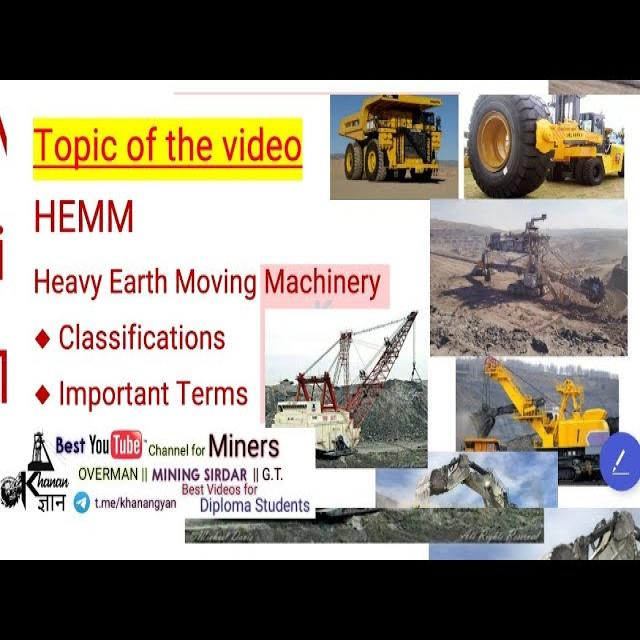dump_truck: (338, 91, 444, 187)
excavator: (469, 351, 605, 469)
